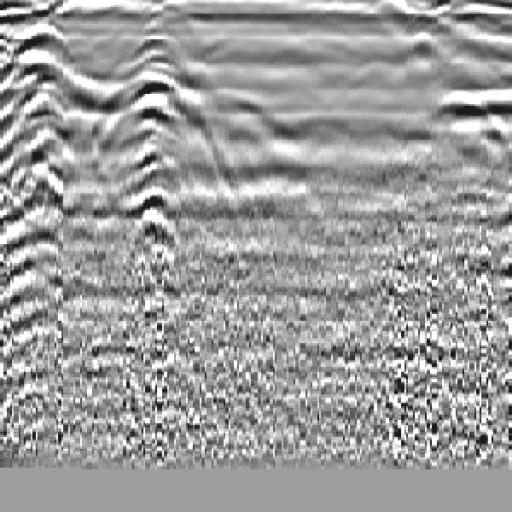metalic: (121, 6, 195, 350)
